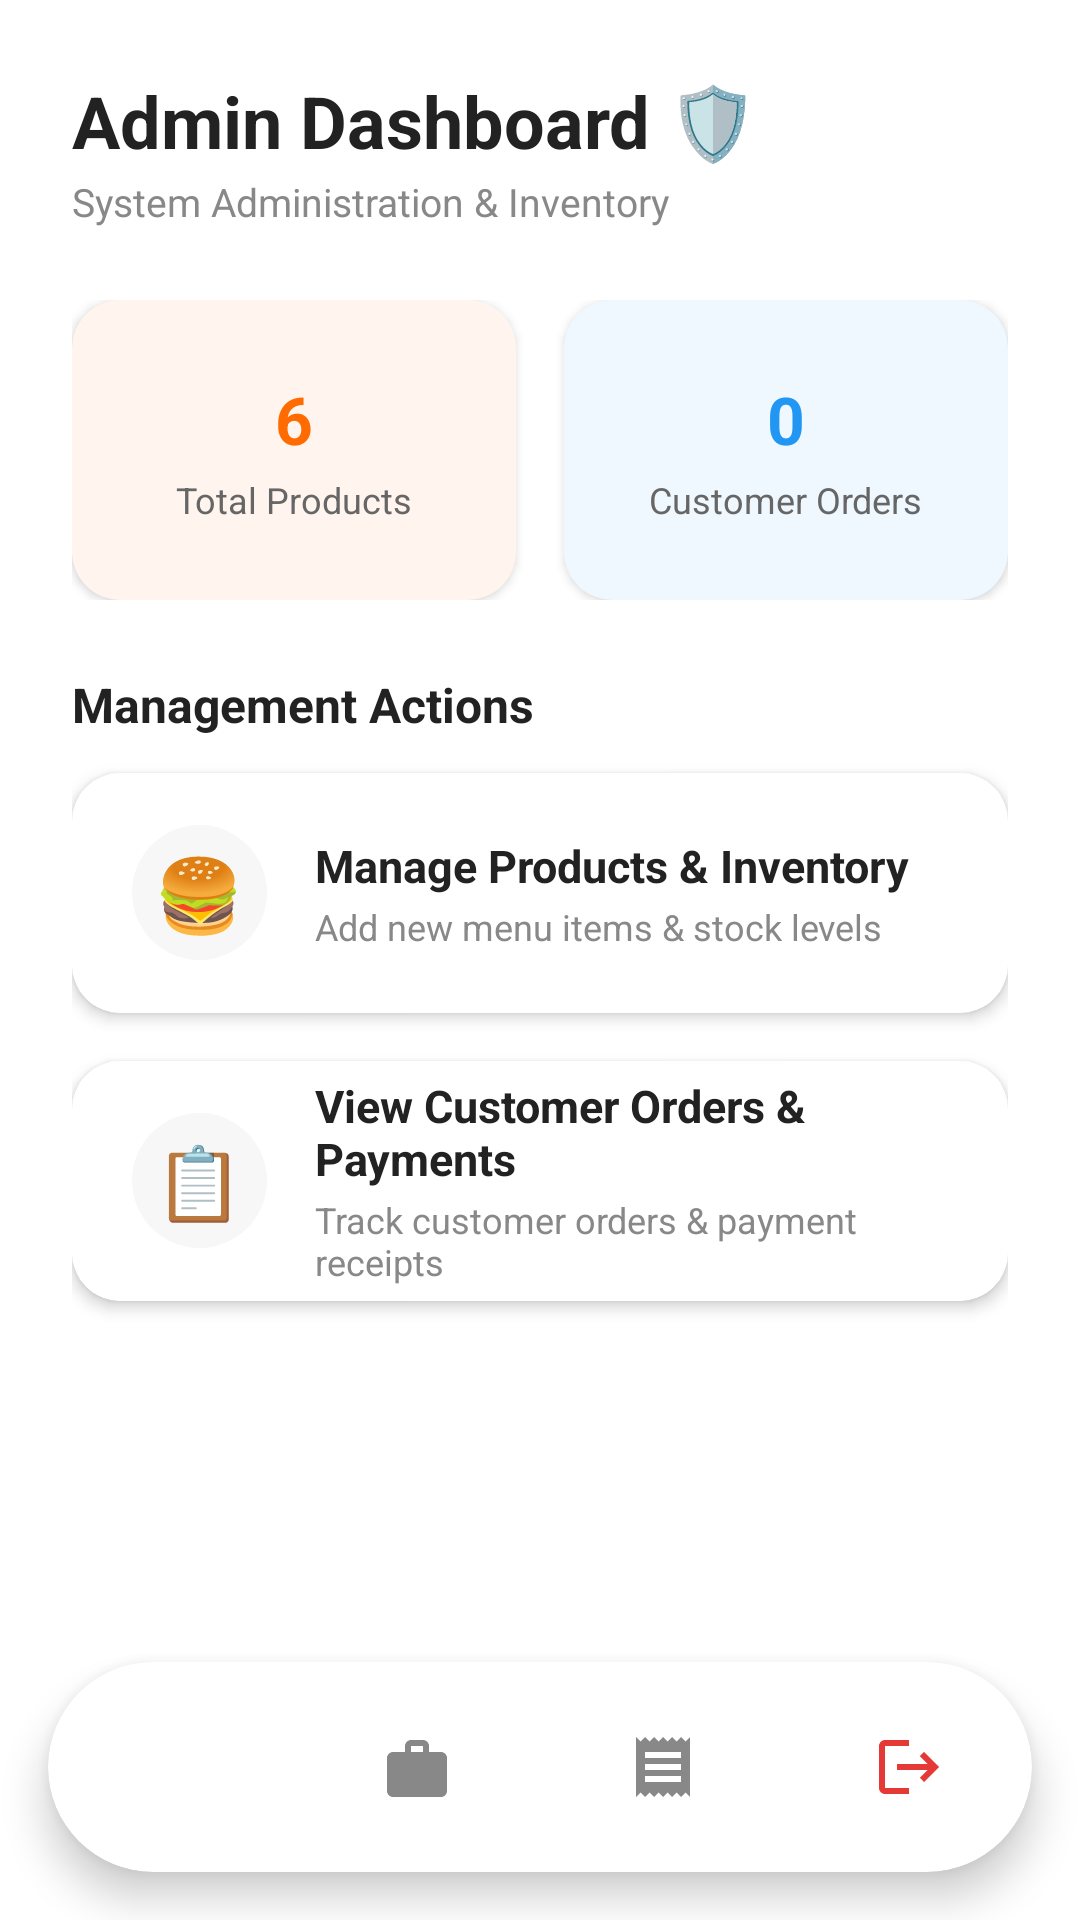

Screen size 1080×1920. Icon name, then its box in pixels as [x1,y1,x2,y2]:
Admin Orders: [636,1737,690,1797]
Admin Products: [387,1740,447,1797]
